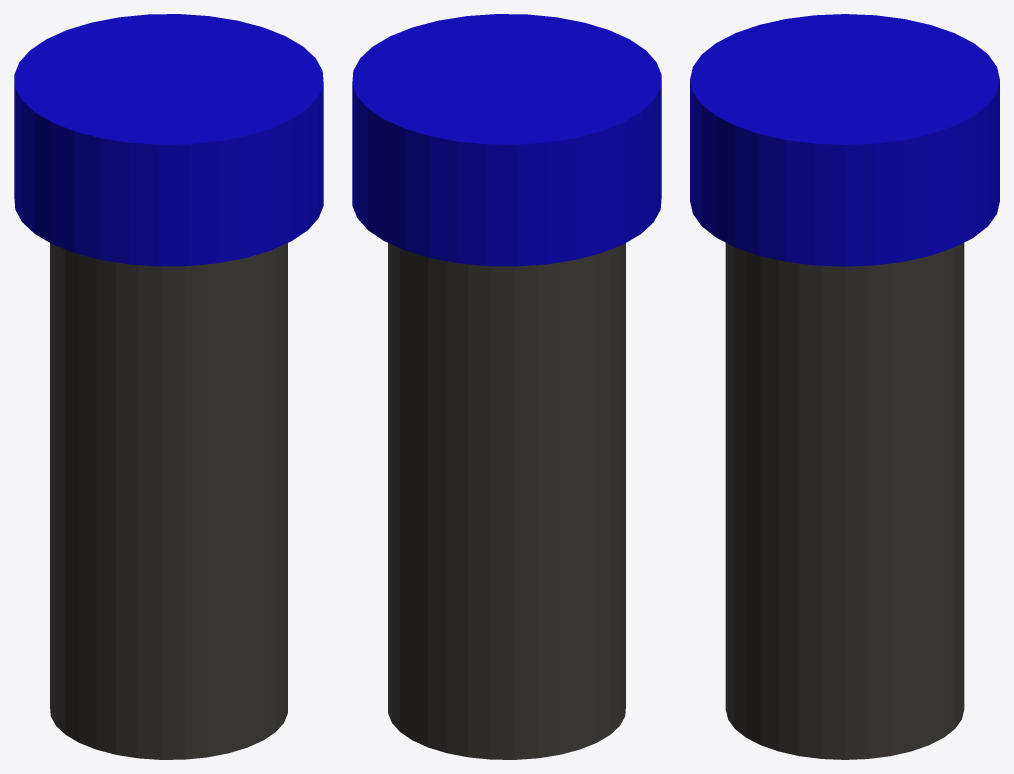
3 renders of one model, left to right at view 1: azimuth 30°, elevation 25°; view 2: azimuth 150°, elevation 25°; view 3: azimuth 270°, elevation 25°, orthographic.
Parts seen in each view (by area): view 1: 柱体, 柱体.001; view 2: 柱体, 柱体.001; view 3: 柱体, 柱体.001.
Part boxes in pixels (x1,y1,x2,y2): 柱体: (50, 243, 287, 759); 柱体.001: (14, 14, 323, 266); 柱体: (388, 243, 625, 759); 柱体.001: (352, 14, 661, 266); 柱体: (725, 243, 964, 759); 柱体.001: (690, 14, 999, 266).
Size of the model in its own units: 2.29 by 5.14 by 2.29.
